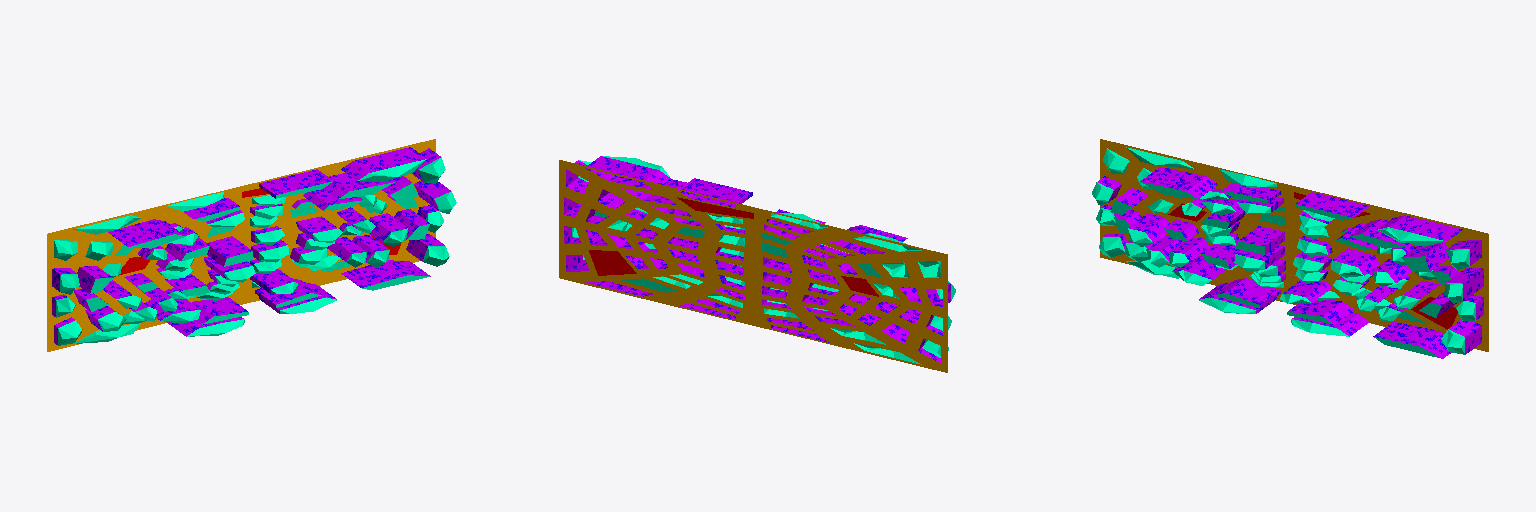
File: my_city5.obj
3 views of the same model, side by side, from view 1: azimuth 30°, elevation 25°; view 2: azimuth 150°, elevation 25°; view 3: azimuth 330°, elevation 25° (orthographic).
Visible parts, largest first — view 1: roof_f, brick, road, frame, glass, plaza; view 2: road, brick, roof_f, plaza, frame, glass; view 3: roof_f, brick, road, frame, glass, plaza.
Boxes of the visible parts, x1,y1,x2,y2 form: roof_f: [54, 157, 456, 345]; brick: [52, 148, 450, 344]; road: [47, 139, 435, 351]; frame: [52, 147, 443, 332]; glass: [52, 147, 444, 332]; plaza: [118, 188, 400, 275]; road: [559, 160, 947, 372]; brick: [564, 156, 950, 363]; roof_f: [572, 156, 955, 364]; plaza: [589, 197, 878, 296]; frame: [564, 158, 950, 360]; glass: [564, 158, 950, 359]; roof_f: [1092, 147, 1475, 358]; brick: [1098, 167, 1483, 358]; road: [1100, 139, 1488, 351]; frame: [1102, 168, 1483, 353]; glass: [1103, 168, 1483, 353]; plaza: [1168, 192, 1457, 329].
Bounding box in the file's own units: 274 × 82.93 × 35.